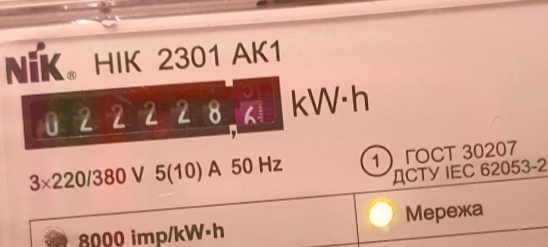0: (41, 107, 59, 137)
2: (74, 102, 94, 133), (140, 97, 159, 126), (173, 96, 192, 125), (108, 100, 126, 130)
5: (238, 79, 255, 100)
6: (240, 102, 257, 124)
8: (205, 96, 222, 125)
screen: (11, 62, 293, 159)
